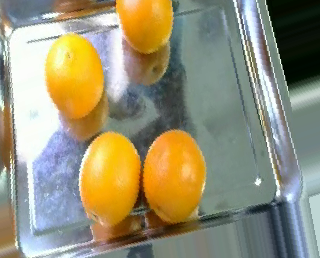Orange: (141, 129, 206, 224), (77, 130, 140, 226), (45, 33, 104, 119), (114, 1, 173, 53)
